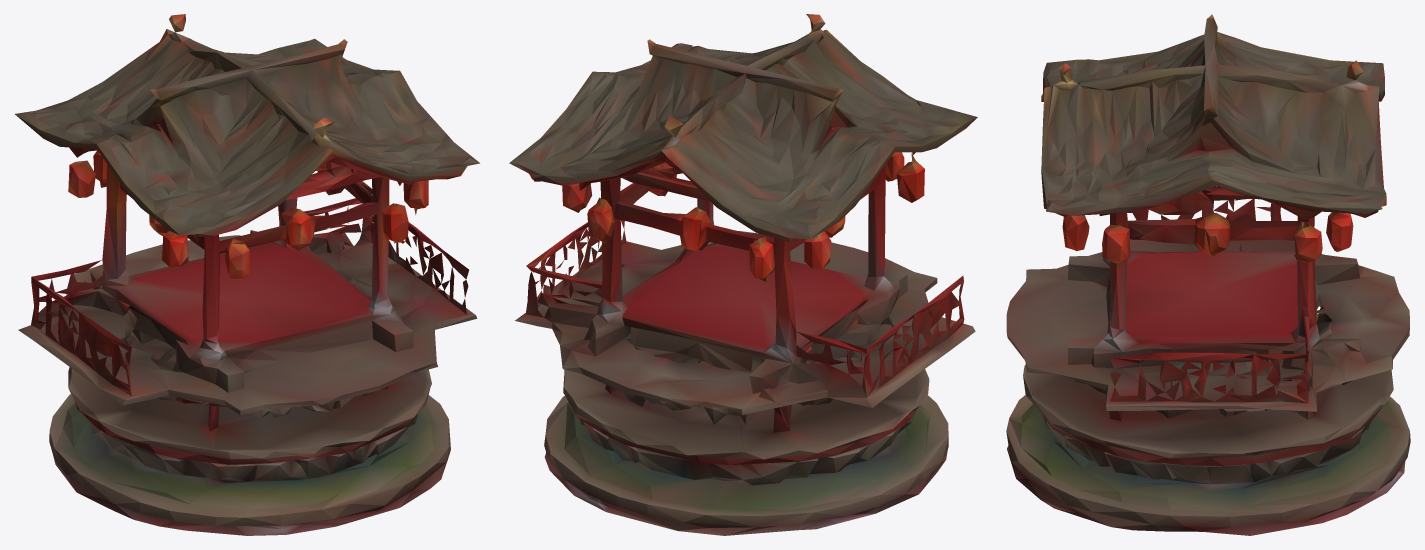
The model's file is bq_music_pav.vc.glb.
3 views of the same model, side by side, from view 1: azimuth 30°, elevation 25°; view 2: azimuth 150°, elevation 25°; view 3: azimuth 270°, elevation 25° (orthographic).
Parts seen in each view (by area): view 1: bq_music_pav; view 2: bq_music_pav; view 3: bq_music_pav.
Part boxes in pixels (x1,y1,x2,y2): bq_music_pav: (15, 14, 479, 535); bq_music_pav: (509, 14, 977, 535); bq_music_pav: (1006, 14, 1410, 535).
Bounding box in the file's own units: 1.93 × 2 × 1.87.
